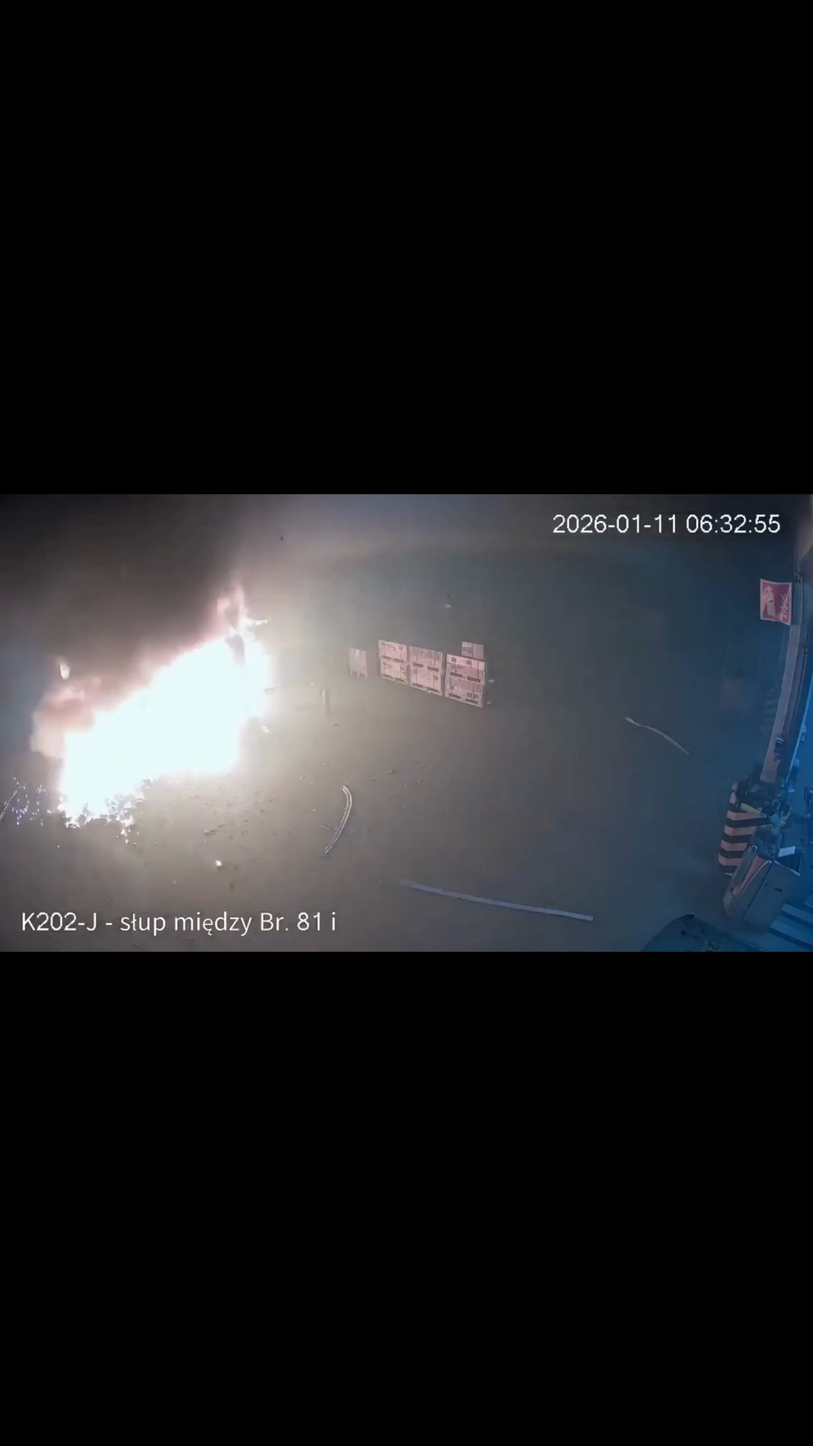fire: (30, 589, 278, 837)
smoke: (0, 496, 446, 717)
